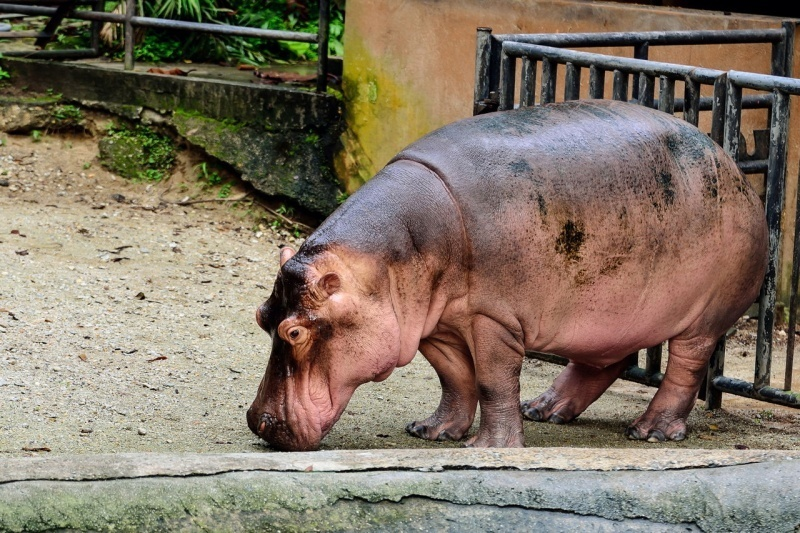hipopotamo: (245, 98, 776, 455)
